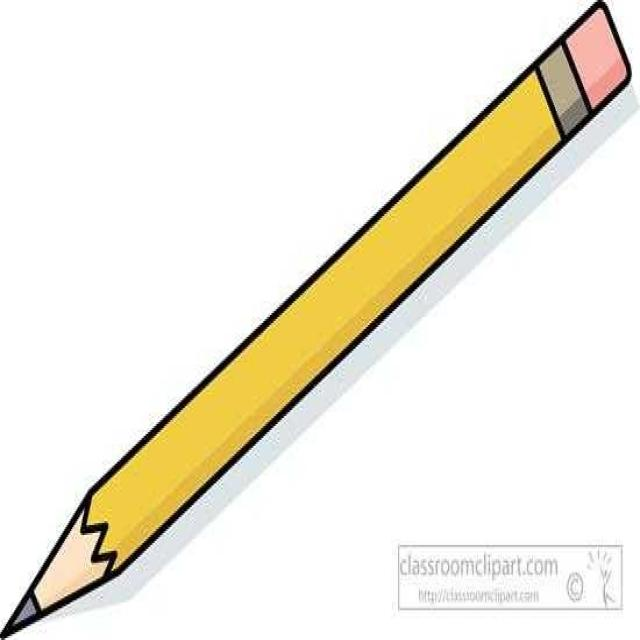pencil: (0, 0, 639, 638)
